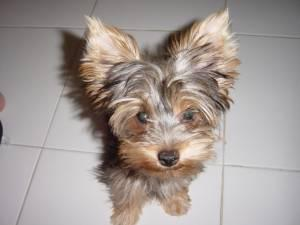dog: (82, 10, 232, 176)
